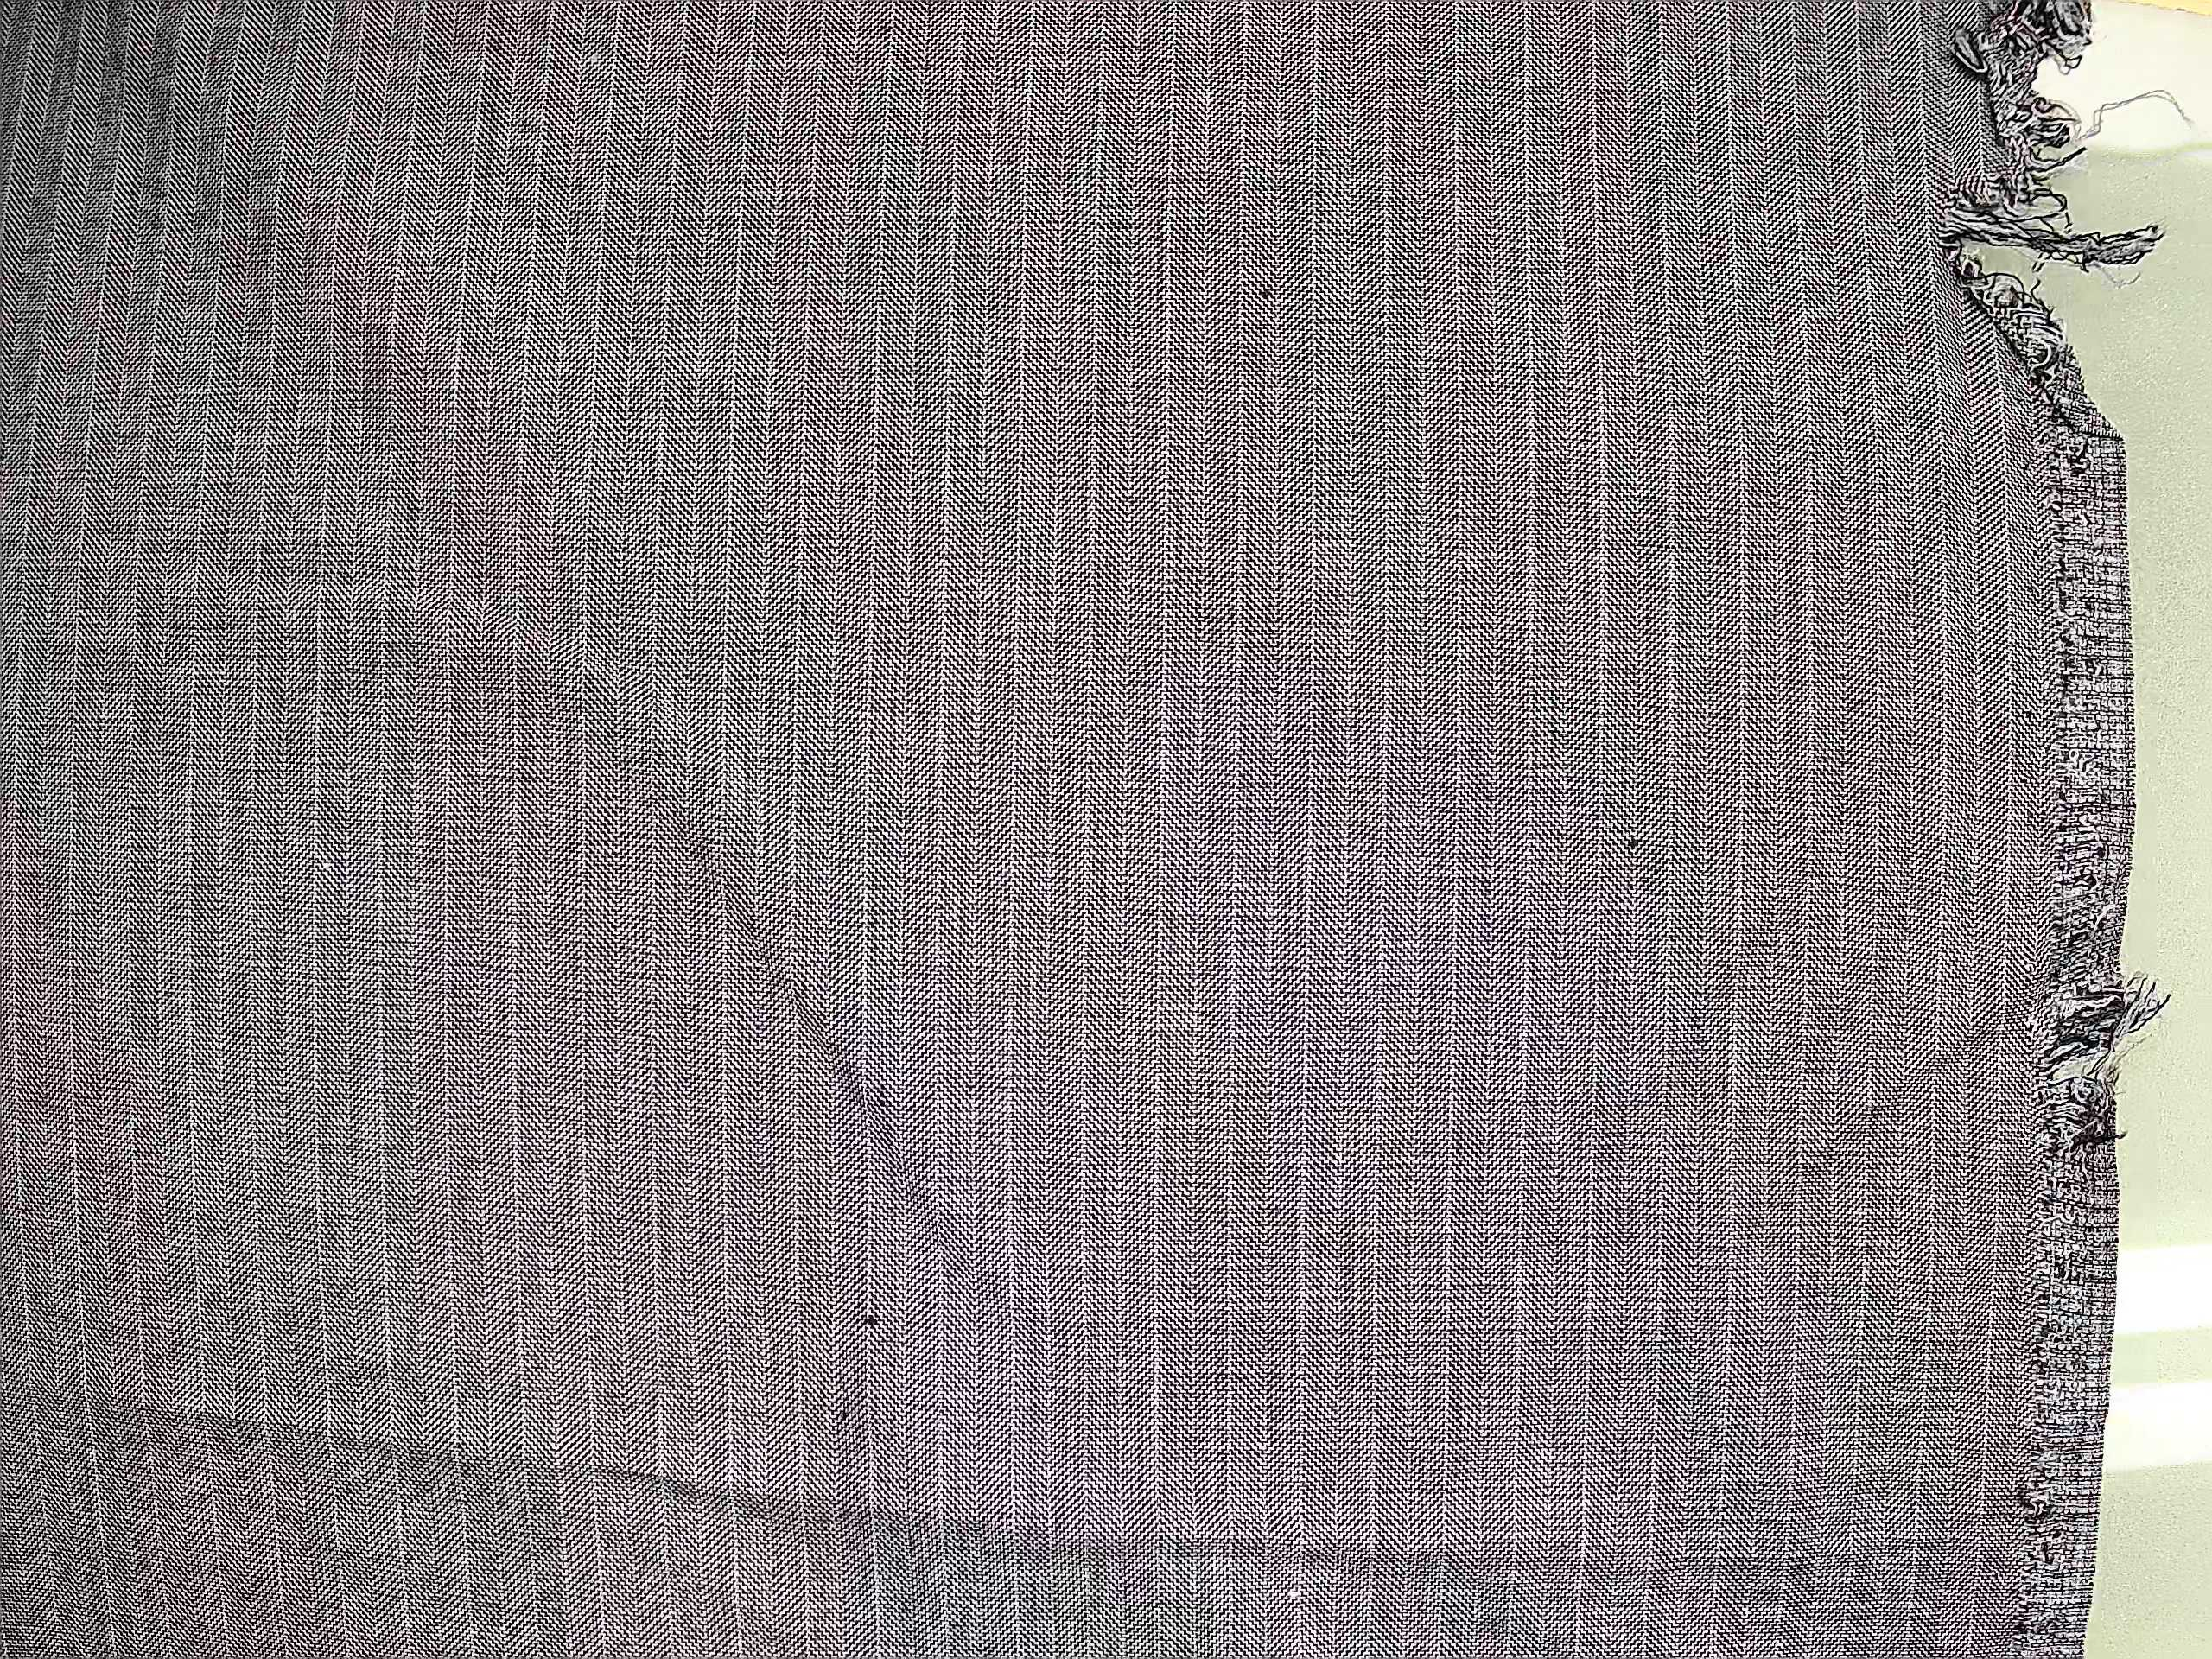others: (1878, 14, 2167, 1204)
